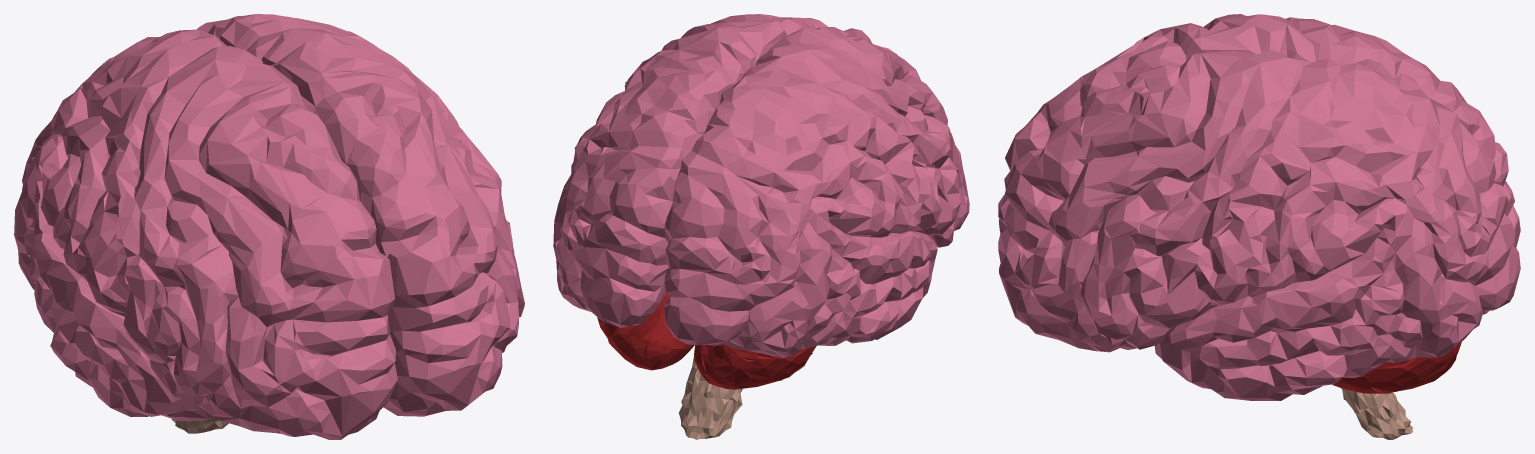
File: Human_Brain.fbx
3 renders of one model, left to right at view 1: azimuth 30°, elevation 25°; view 2: azimuth 150°, elevation 25°; view 3: azimuth 270°, elevation 25°, orthographic. The views are drawn at different scales.
Visible parts, largest first — view 1: Brain, medulla; view 2: Brain, cerebellum, medulla; view 3: Brain, cerebellum, medulla.
Boxes of the visible parts, x1,y1,x2,y2 form: Brain: (14, 14, 524, 439); medulla: (171, 418, 228, 433); Brain: (553, 14, 969, 357); cerebellum: (597, 293, 816, 389); medulla: (679, 356, 742, 439); Brain: (998, 14, 1520, 400); cerebellum: (1332, 342, 1461, 393); medulla: (1341, 388, 1412, 439).
Size of the model in its own units: 13.88 by 17.54 by 14.51.
